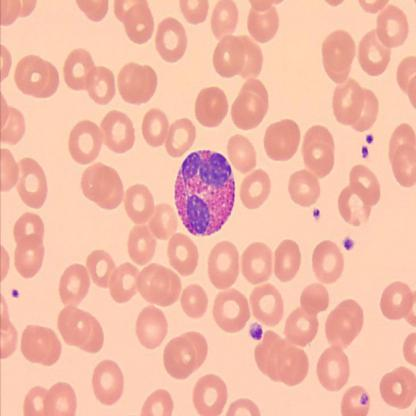Eosinophil: (174, 148, 236, 238)
